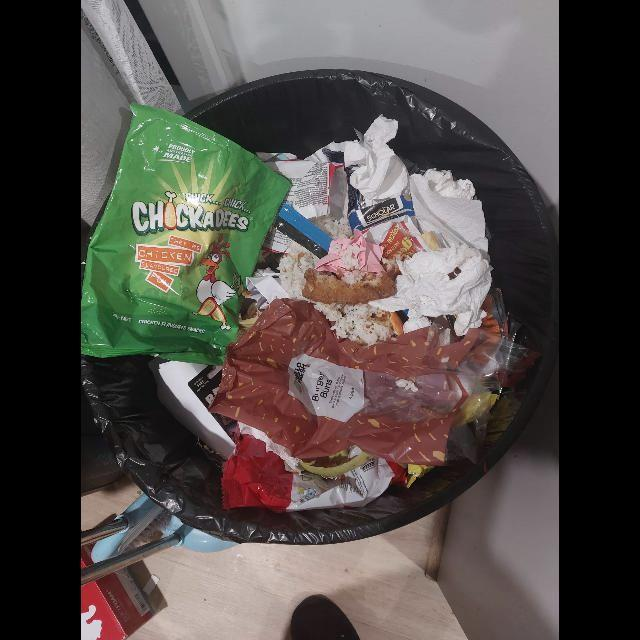food_wrapper: (82, 102, 293, 366), (222, 421, 436, 512), (262, 160, 335, 220), (359, 217, 430, 277)
left_over_food: (279, 244, 404, 345)
paper: (369, 247, 492, 338), (308, 114, 408, 205), (410, 170, 488, 255), (318, 230, 387, 273)
plastic_bag: (210, 298, 529, 469)
